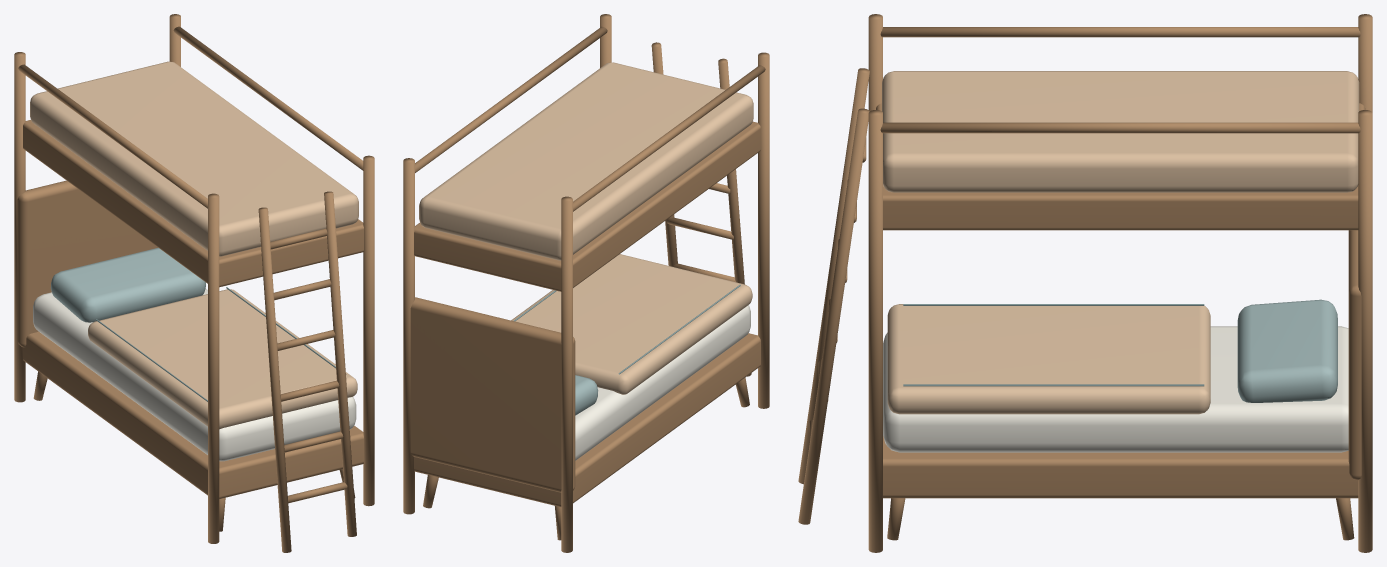
File: atelier-bunk-bed.glb
3 views of the same model, side by side, from view 1: azimuth 30°, elevation 25°; view 2: azimuth 150°, elevation 25°; view 3: azimuth 270°, elevation 25° (orthographic). The views are drawn at different scales.
Visible parts, largest first — view 1: legs.027, bedding.004, ceramic.004, fabric.030, seams.029; view 2: legs.027, bedding.004, ceramic.004, fabric.030; view 3: bedding.004, legs.027, ceramic.004, fabric.030, seams.029.
Boxes of the visible parts, left/top/right/bottom form: legs.027: left=14, top=14, right=374, bottom=552; bedding.004: left=30, top=61, right=358, bottom=429; ceramic.004: left=33, top=289, right=356, bottom=461; fabric.030: left=50, top=247, right=205, bottom=322; seams.029: left=95, top=287, right=346, bottom=401; legs.027: left=403, top=14, right=769, bottom=552; bedding.004: left=419, top=62, right=753, bottom=394; ceramic.004: left=575, top=305, right=750, bottom=460; fabric.030: left=575, top=375, right=598, bottom=415; bedding.004: left=882, top=71, right=1359, bottom=414; legs.027: left=798, top=14, right=1372, bottom=552; ceramic.004: left=883, top=326, right=1348, bottom=452; fabric.030: left=1237, top=299, right=1337, bottom=402; seams.029: left=903, top=304, right=1204, bottom=386.
Size of the model in its own units: 1.01 by 2.02 by 2.4.
